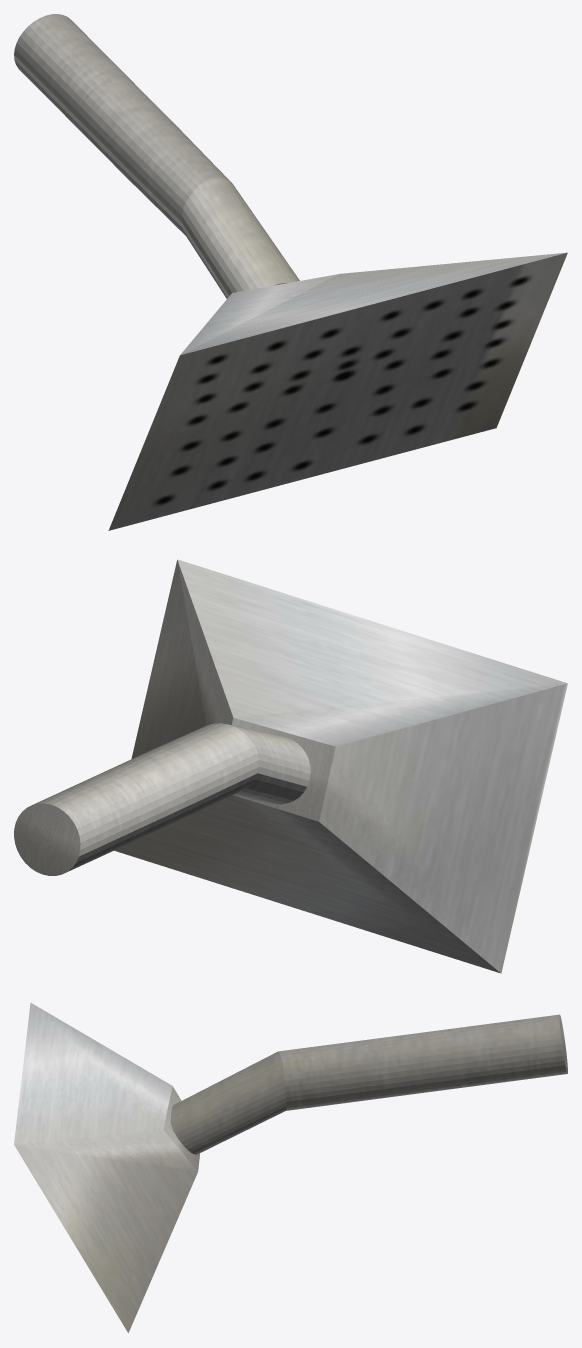
Rendered from Regadera.obj.
3 views of the same model, one above another, from view 1: azimuth 30°, elevation 25°; view 2: azimuth 150°, elevation 25°; view 3: azimuth 270°, elevation 25° (orthographic). The views are drawn at different scales.
Visible parts, largest first — view 1: Regadera_Esfera.008; view 2: Regadera_Esfera.008; view 3: Regadera_Esfera.008.
Boxes of the visible parts, box(x1,y1,x2,y2) form: Regadera_Esfera.008: box(14, 14, 567, 530); Regadera_Esfera.008: box(14, 559, 567, 973); Regadera_Esfera.008: box(14, 1003, 567, 1332).
Size of the model in its own units: 0.2086 by 0.1527 by 0.307.
Materials: 1 (1 with a texture image).
